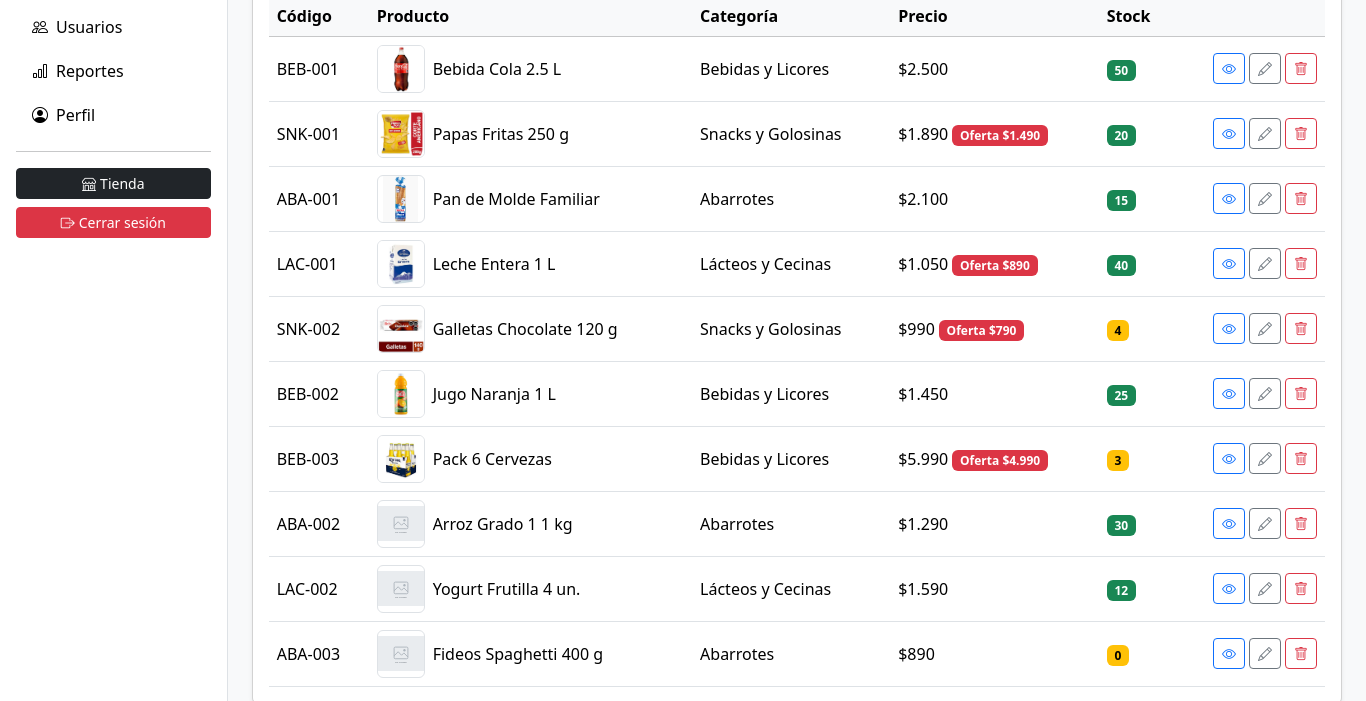
Test case: Panel administrador › elimina un producto tras confirmar
(page scrolled)
Click the button named "Eliminar Arroz Grado 1 1 kg" at (1301, 524), box [1285,508,1317,539]
(page scrolled)
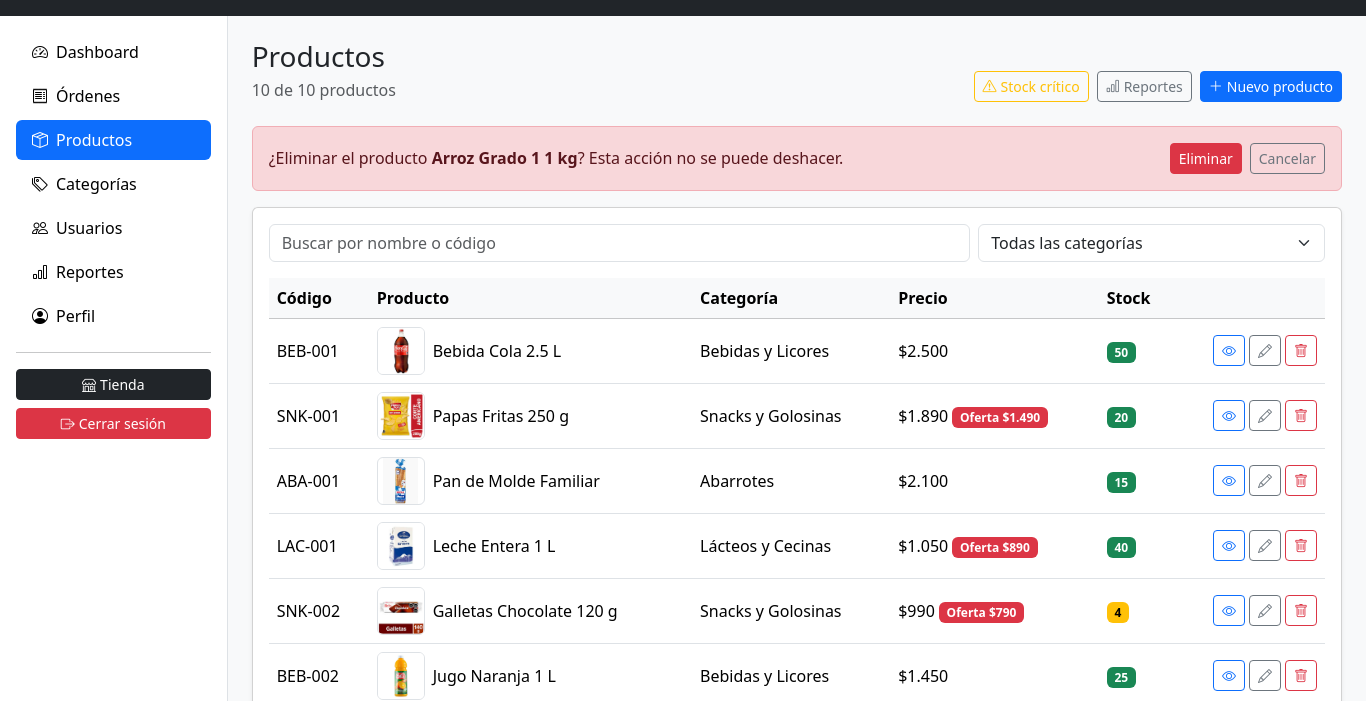
Click the button "Eliminar" at (1206, 158), box [1170,143,1242,174]
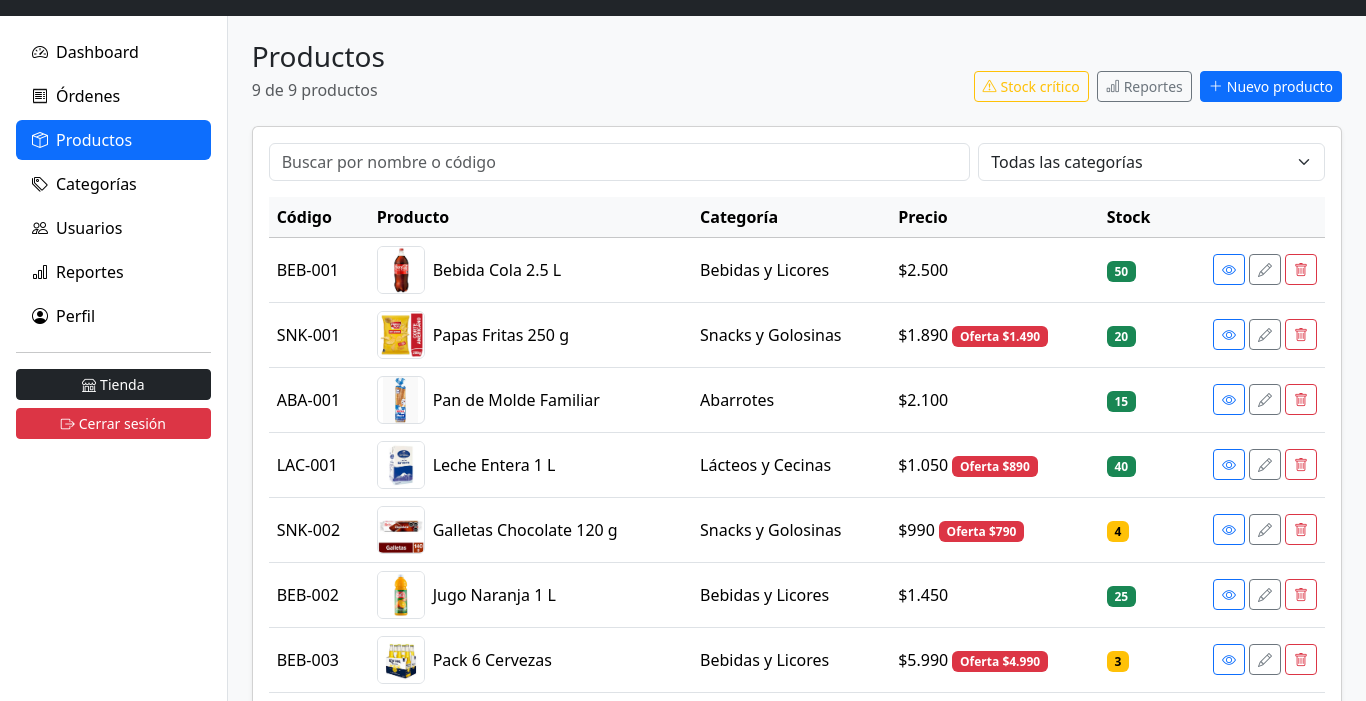
Expected: the text "Arroz Grado 1 1 kg" is gone
